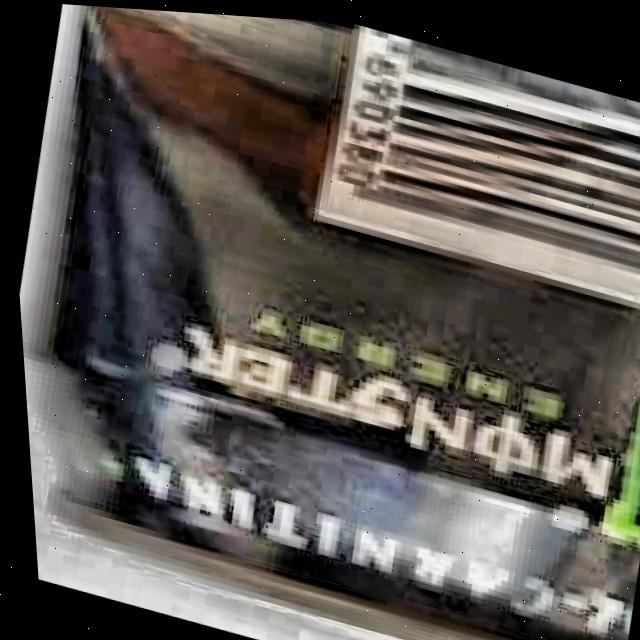metal: (15, 3, 640, 640)
